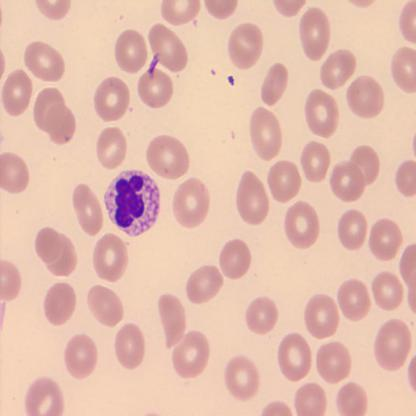Segmented neutrophil: (101, 166, 164, 238)
